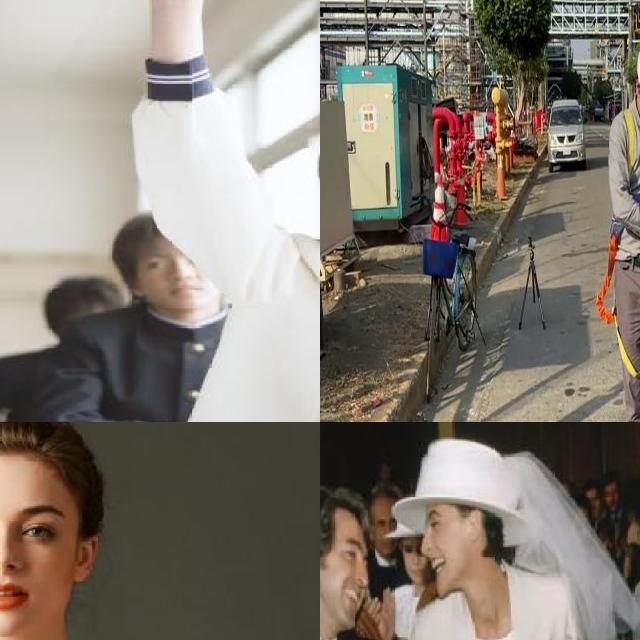Harness: (596, 230, 640, 378), (624, 109, 640, 205)
No_Ear-Protection: (68, 524, 100, 588)
No_Glasses: (0, 504, 68, 555)
face_nomask: (0, 494, 70, 637), (320, 515, 373, 631), (412, 505, 472, 599)
hand_noglove: (381, 586, 397, 640), (365, 592, 383, 626)
head_nohelmet: (412, 435, 530, 522), (0, 422, 101, 489), (320, 485, 377, 531)
person: (123, 0, 320, 422), (0, 422, 254, 640), (389, 433, 640, 640), (320, 503, 440, 640)
